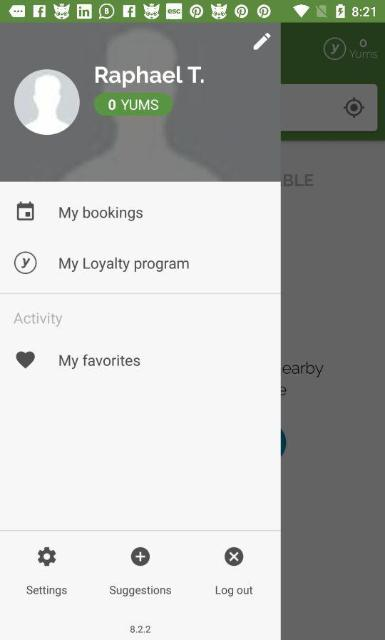Drawer: (0, 23, 280, 639)
Icon: (14, 68, 80, 136), (14, 250, 36, 274), (130, 546, 150, 566), (224, 546, 243, 566), (38, 546, 56, 566), (16, 351, 36, 369), (16, 200, 34, 220), (253, 32, 270, 50)
Text: (95, 66, 204, 88), (58, 258, 188, 272), (58, 204, 143, 222), (58, 353, 140, 369), (109, 584, 171, 596), (14, 312, 62, 326), (108, 98, 158, 110), (26, 584, 68, 596), (216, 584, 252, 596), (128, 622, 150, 632)
TextImageButton: (109, 546, 172, 596), (26, 546, 68, 596), (215, 546, 253, 596)
UpperTaskBar: (0, 0, 384, 22)
